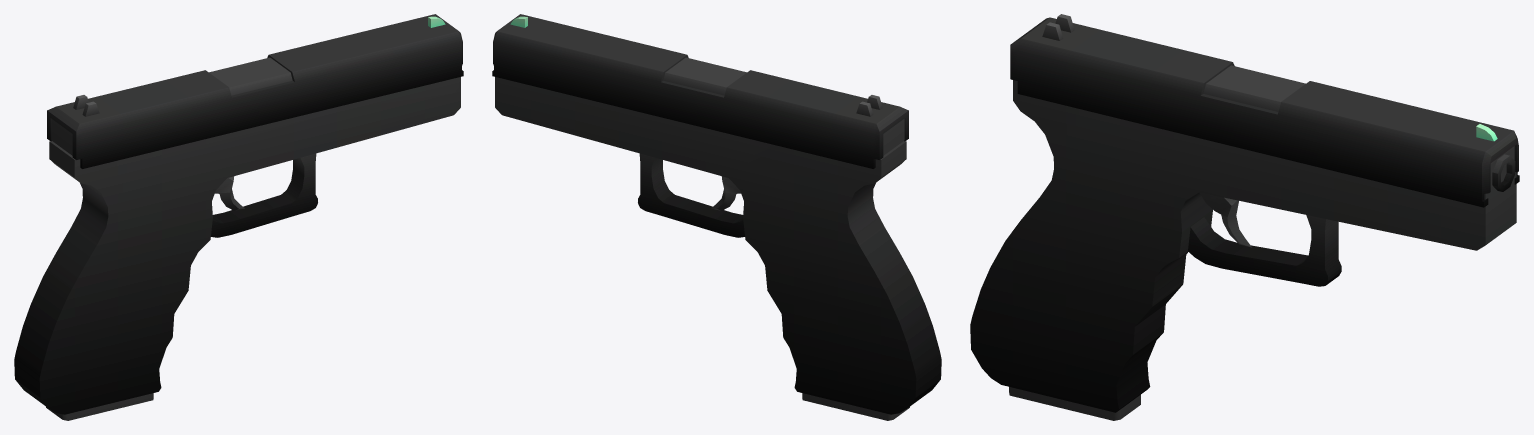
Rendered from Gun.obj.
3 renders of one model, left to right at view 1: azimuth 30°, elevation 25°; view 2: azimuth 150°, elevation 25°; view 3: azimuth 330°, elevation 25°, orthographic. The views are drawn at different scales.
Visible parts, largest first — view 1: Handle; view 2: Handle; view 3: Handle.
Boxes of the visible parts, box(x1,y1,x2,y2) form: Handle: box(14, 14, 463, 420); Handle: box(492, 14, 941, 420); Handle: box(970, 14, 1519, 420).
Size of the model in its own units: 0.7168 by 0.4917 by 0.0853.
1 material, 1 textured.
